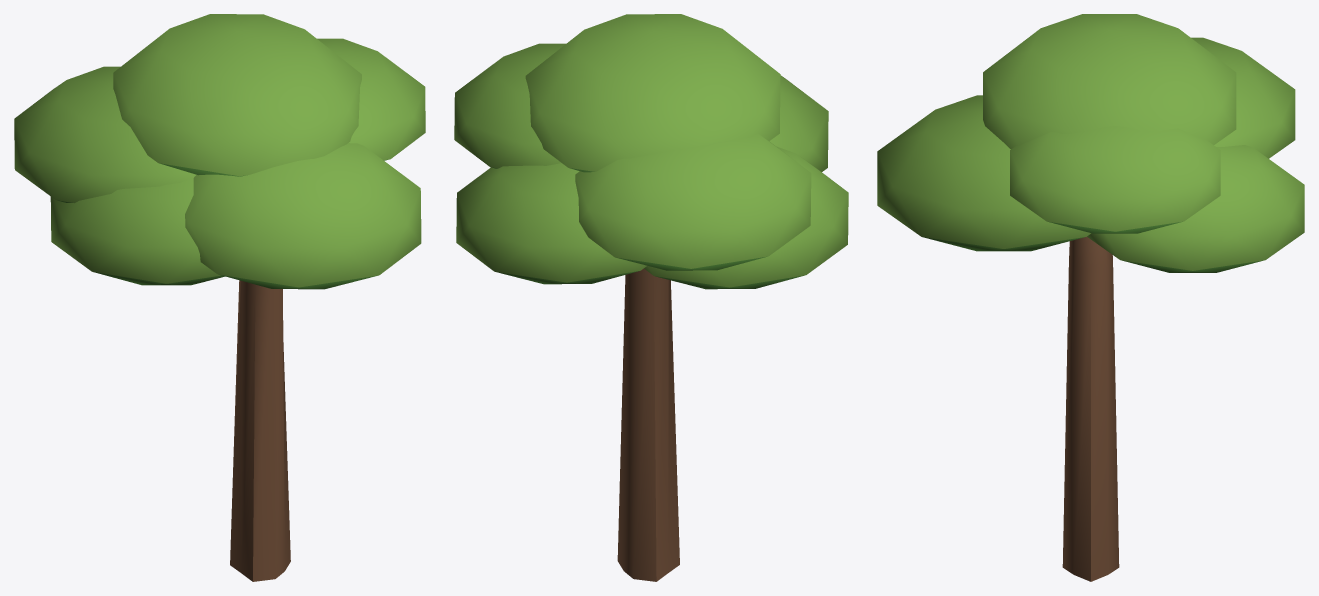
The model's file is tree_round_b_far.glb.
3 views of the same model, side by side, from view 1: azimuth 30°, elevation 25°; view 2: azimuth 150°, elevation 25°; view 3: azimuth 270°, elevation 25° (orthographic). The views are drawn at different scales.
Parts seen in each view (by area): view 1: body; view 2: body; view 3: body.
Part boxes in pixels (x1,y1,x2,y2): body: (14,14,425,581); body: (454,14,848,581); body: (877,14,1304,581).
Bounding box in the file's own units: 2.86 × 4.14 × 3.02.
